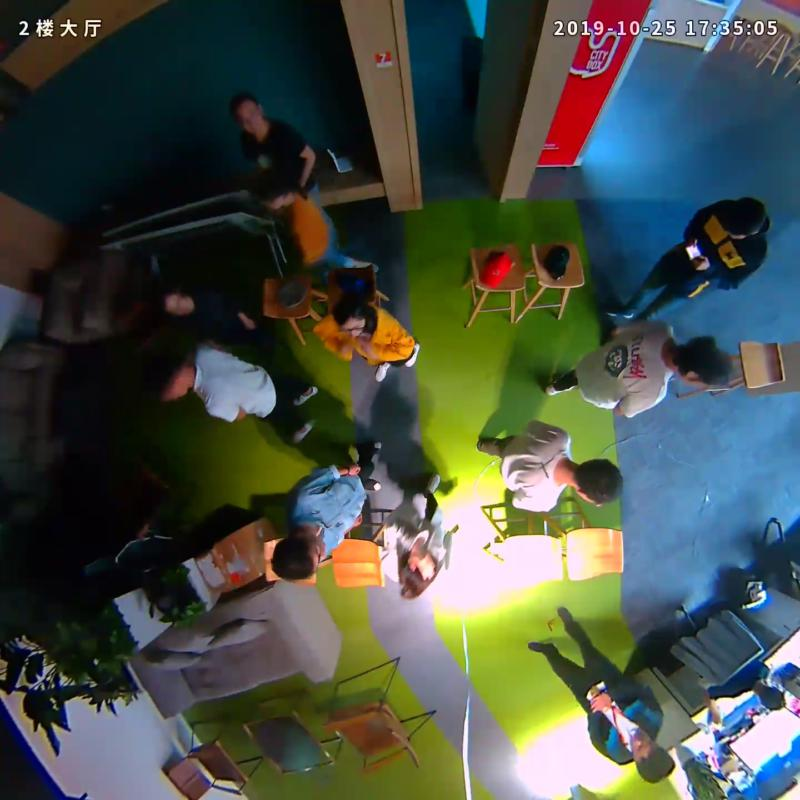head: (677, 337, 732, 393), (272, 527, 327, 582), (631, 730, 674, 785), (574, 459, 623, 507), (148, 355, 195, 404), (720, 196, 767, 238), (399, 553, 438, 599), (251, 172, 292, 211), (333, 292, 367, 339), (230, 93, 264, 135), (157, 288, 195, 318)
